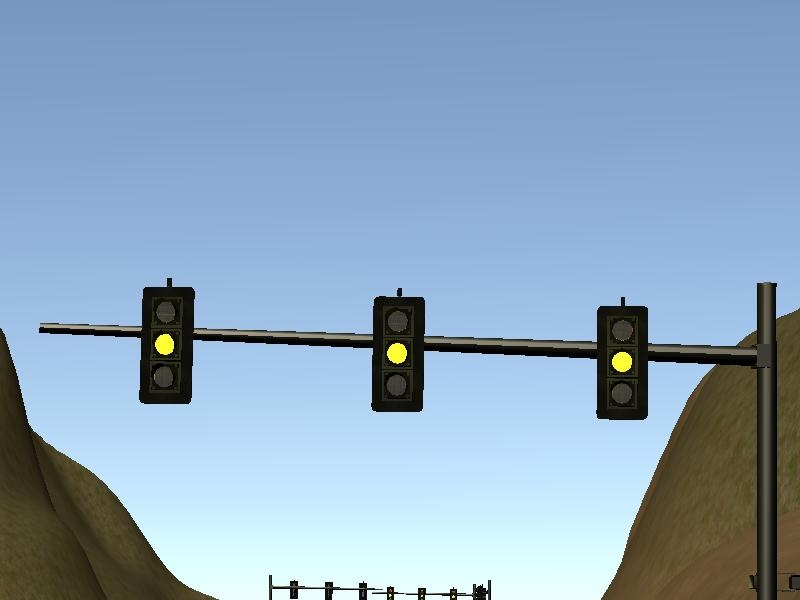YELLOW: (135, 276, 196, 406), (366, 287, 427, 417), (591, 297, 652, 427)
